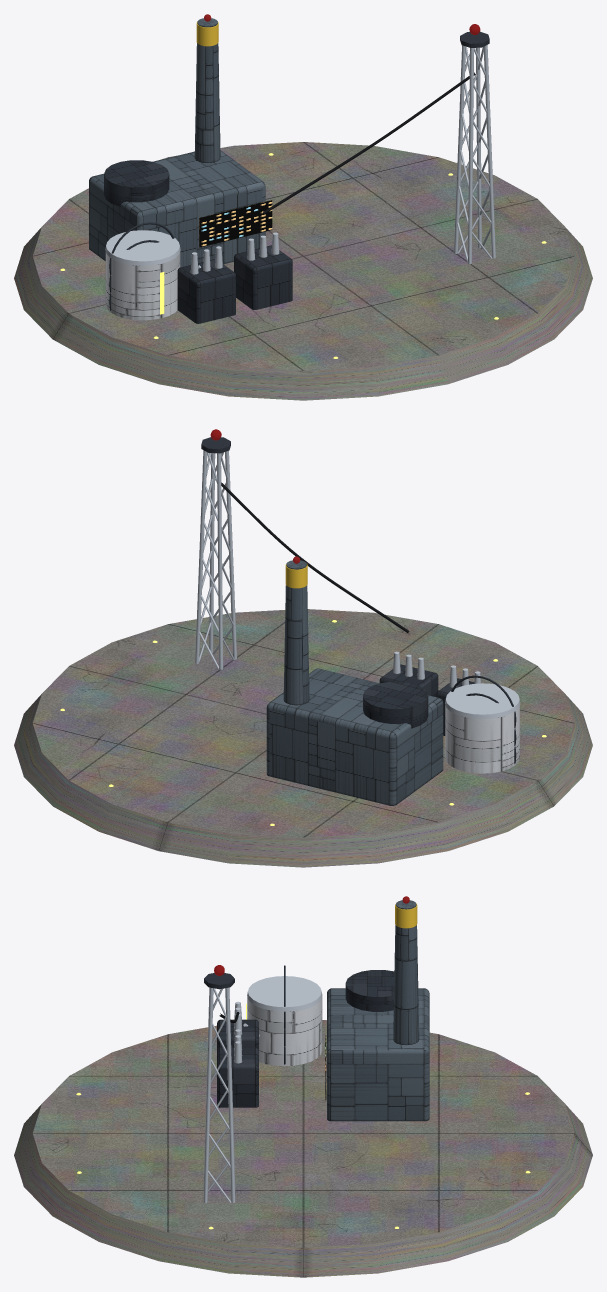
File: power-T1.glb
The picture shows the model from 3 angles, top to bottom: view 1: azimuth 30°, elevation 25°; view 2: azimuth 150°, elevation 25°; view 3: azimuth 270°, elevation 25°; orthographic projection.
Parts seen in each view (by area): view 1: object 1, object 11, object 75, anim:smoke, object 16, object 20, object 12, object 13, object 76, object 74; view 2: object 1, object 11, object 75, anim:smoke, object 12, object 76, object 20, object 74; view 3: object 1, object 11, object 75, anim:smoke, object 76, object 20, object 12, object 16.
Boxes of the visible parts, bbox=[...] form: object 1: bbox=[14, 142, 592, 400]; object 11: bbox=[89, 150, 265, 267]; object 75: bbox=[105, 252, 180, 320]; anim:smoke: bbox=[194, 18, 220, 162]; object 16: bbox=[177, 259, 235, 323]; object 20: bbox=[234, 245, 292, 309]; object 12: bbox=[104, 160, 169, 206]; object 13: bbox=[199, 200, 272, 247]; object 76: bbox=[105, 230, 180, 265]; object 74: bbox=[263, 72, 475, 214]; object 1: bbox=[14, 609, 592, 867]; object 11: bbox=[266, 668, 443, 805]; object 75: bbox=[445, 705, 519, 773]; anim:smoke: bbox=[283, 560, 309, 705]; object 12: bbox=[363, 681, 428, 728]; object 76: bbox=[445, 683, 520, 719]; object 20: bbox=[379, 664, 438, 696]; object 74: bbox=[215, 479, 409, 633]; object 1: bbox=[14, 1020, 592, 1277]; object 11: bbox=[327, 988, 429, 1121]; object 75: bbox=[247, 997, 322, 1066]; anim:smoke: bbox=[393, 900, 419, 1045]; object 76: bbox=[247, 976, 322, 1011]; object 20: bbox=[217, 1047, 258, 1107]; object 12: bbox=[345, 970, 394, 1011]; object 16: bbox=[217, 1019, 258, 1050].
Bounding box in the file's own units: 6.2 × 3.02 × 6.2.
13 materials, 6 textured.
